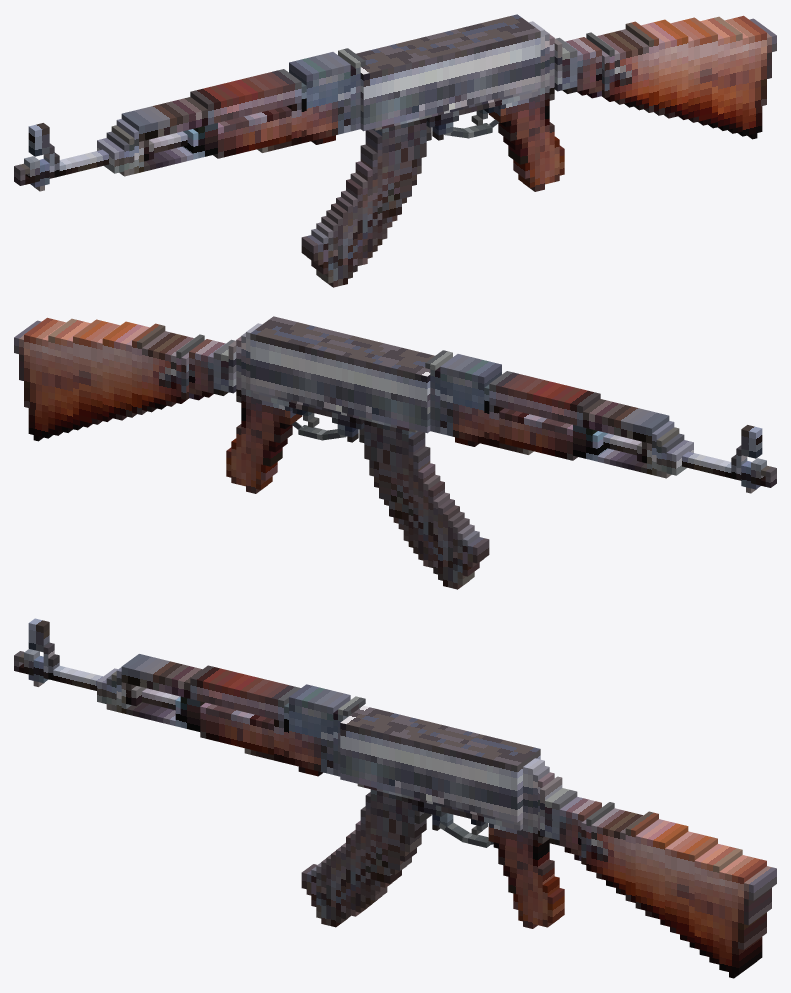
3 views of the same model, one above another, from view 1: azimuth 30°, elevation 25°; view 2: azimuth 150°, elevation 25°; view 3: azimuth 330°, elevation 25° (orthographic).
Visible parts, largest first — view 1: download; view 2: download; view 3: download.
Part boxes in pixels (left/top/right/bottom): download: left=14, top=14, right=776, bottom=287; download: left=14, top=316, right=776, bottom=589; download: left=14, top=618, right=776, bottom=978.
Bounding box in the file's own units: 0.95 × 0.275 × 0.0512.
Materials: 1 (1 with a texture image).
